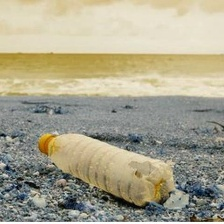bottle: (36, 129, 182, 209)
